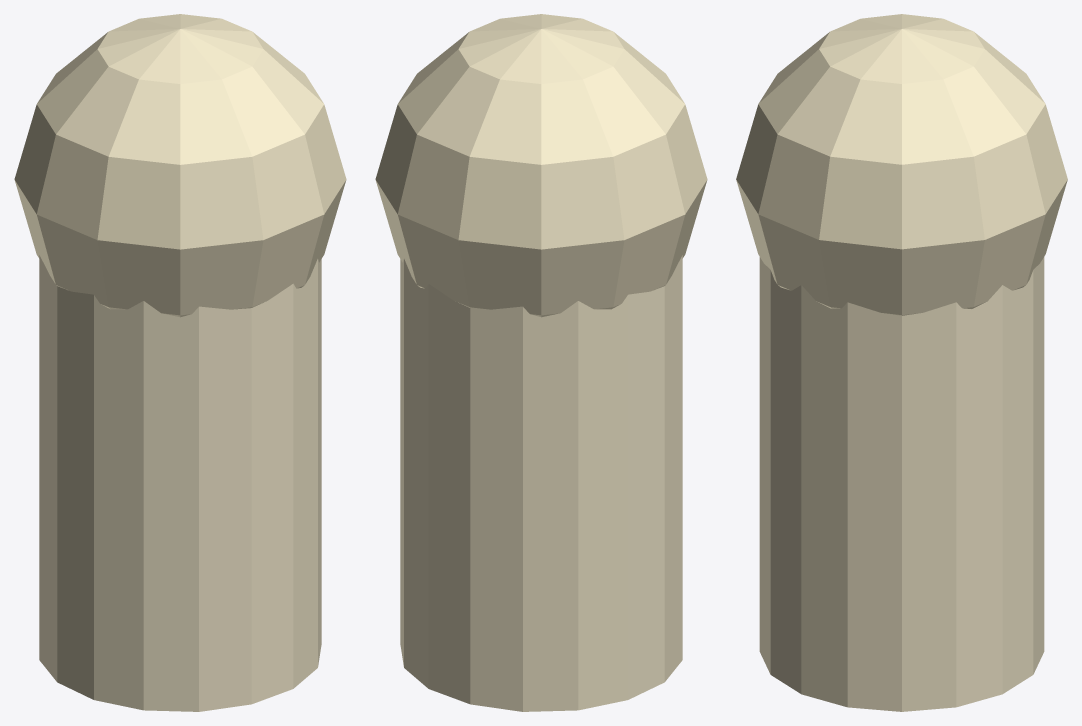
File: wrap.glb
3 renders of one model, left to right at view 1: azimuth 30°, elevation 25°; view 2: azimuth 150°, elevation 25°; view 3: azimuth 270°, elevation 25°, orthographic.
Bounding box in the file's own units: 0.14 × 0.29 × 0.14.
